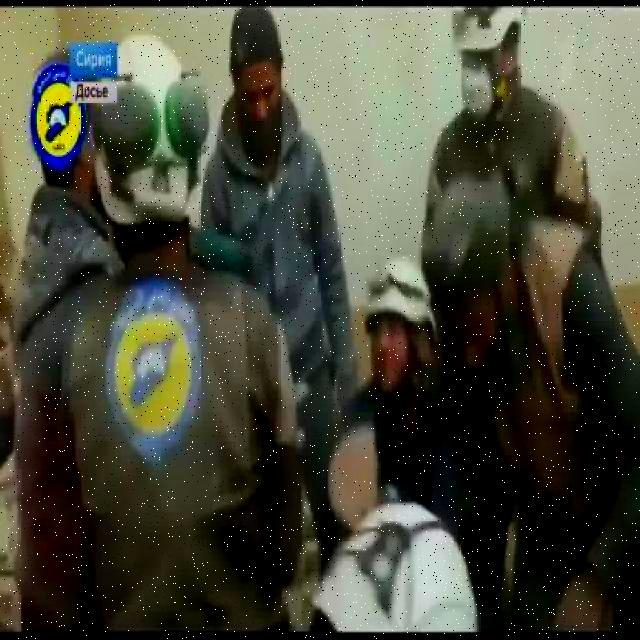Helmet: (306, 494, 480, 638), (90, 28, 204, 234), (362, 254, 436, 340), (448, 0, 527, 54)
